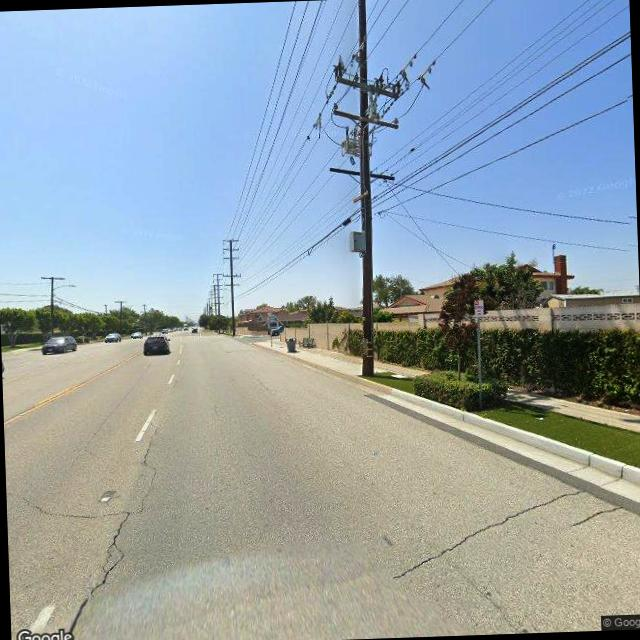crack: (385, 488, 578, 577), (86, 416, 168, 602), (14, 492, 124, 523), (564, 496, 624, 534)
